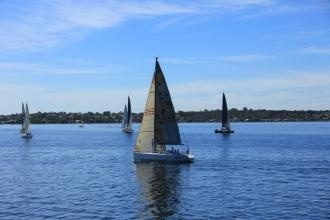fanchuan: (130, 54, 194, 163), (209, 92, 237, 139), (17, 97, 36, 141), (117, 96, 137, 136)
